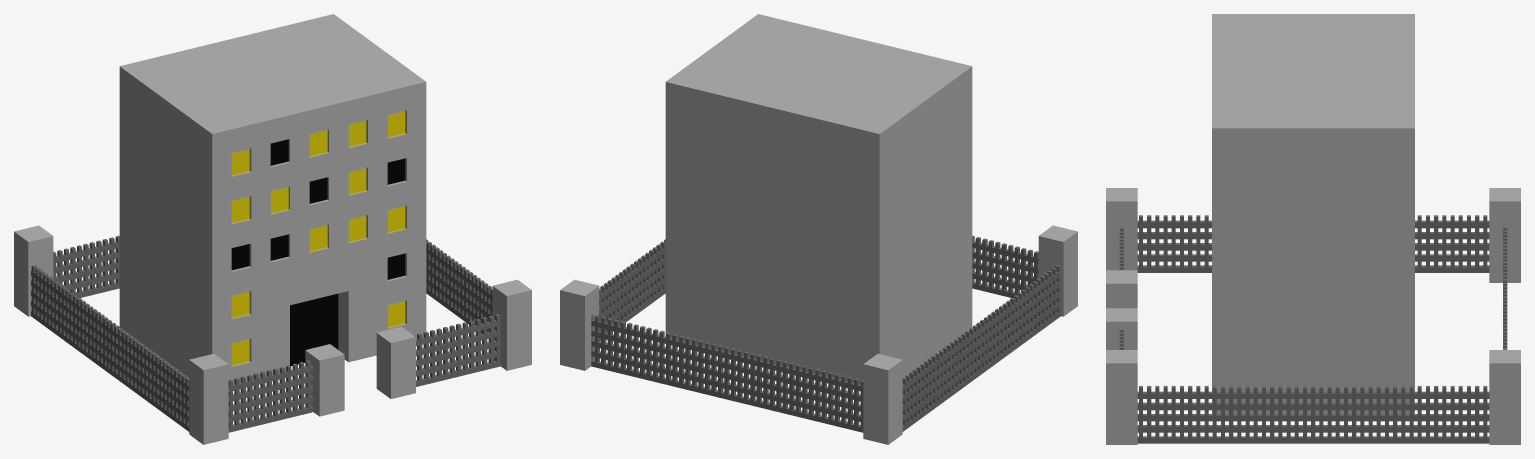
Rendered from City.fbx.
3 views of the same model, side by side, from view 1: azimuth 30°, elevation 25°; view 2: azimuth 150°, elevation 25°; view 3: azimuth 270°, elevation 25° (orthographic). The views are drawn at different scales.
Visible parts, largest first — view 1: City; view 2: City; view 3: City.
Boxes of the visible parts, x1,y1,x2,y2 form: City: (14, 14, 531, 444); City: (560, 14, 1077, 444); City: (1106, 14, 1520, 444).
Size of the model in its own units: 184 by 140 by 184.
